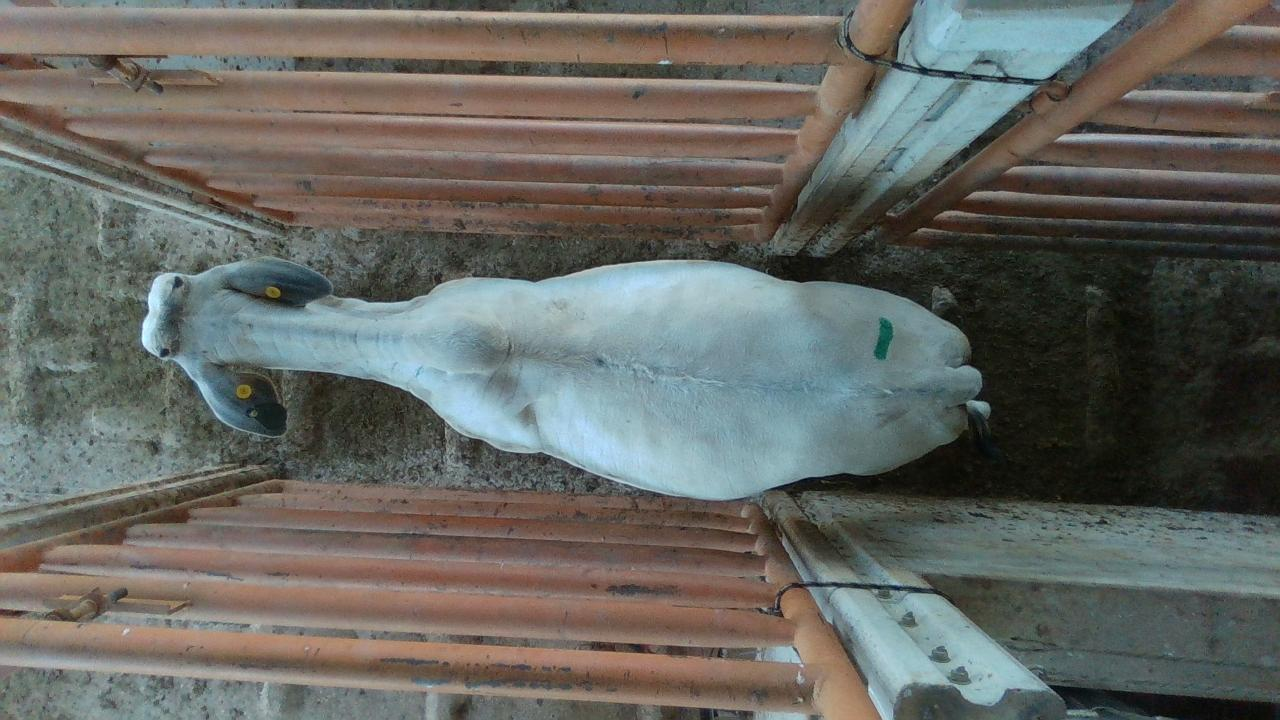cattle: (140, 252, 994, 502)
